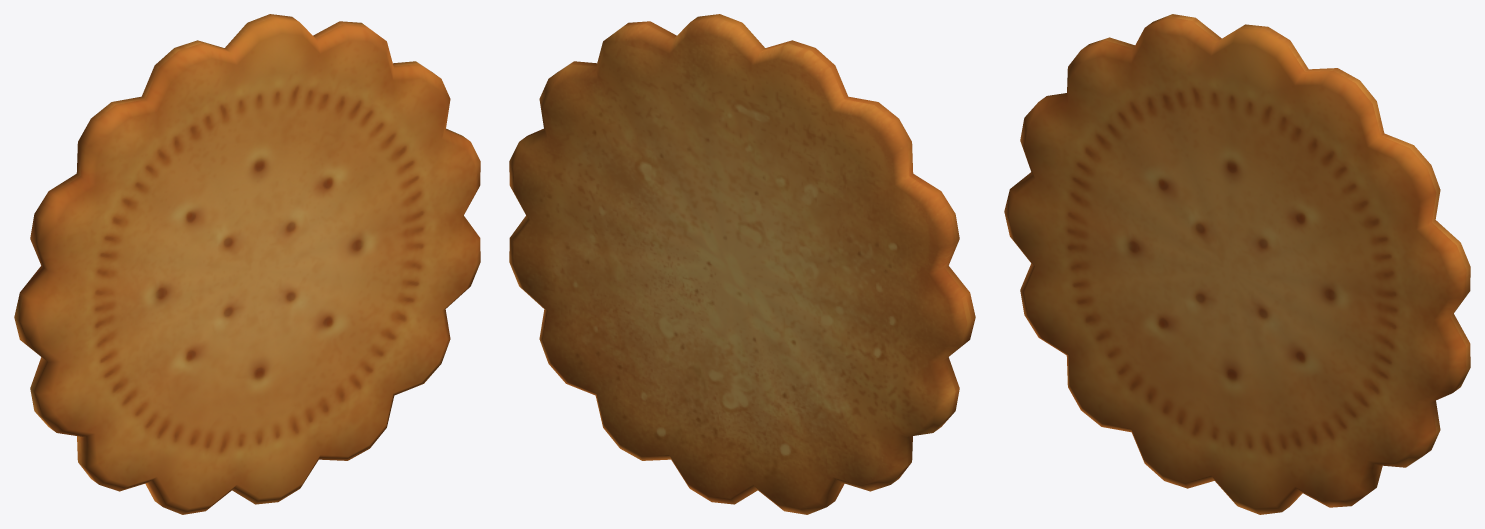
File: Biscuit2.fbx
3 views of the same model, side by side, from view 1: azimuth 30°, elevation 25°; view 2: azimuth 150°, elevation 25°; view 3: azimuth 330°, elevation 25° (orthographic).
Parts seen in each view (by area): view 1: pCylinder3; view 2: pCylinder3; view 3: pCylinder3.
Part boxes in pixels (x1,y1,x2,y2): pCylinder3: [14, 14, 480, 514]; pCylinder3: [509, 14, 975, 514]; pCylinder3: [1004, 14, 1470, 514].
Size of the model in its own units: 167 by 167 by 11.36.
Materials: 1 (1 with a texture image).
